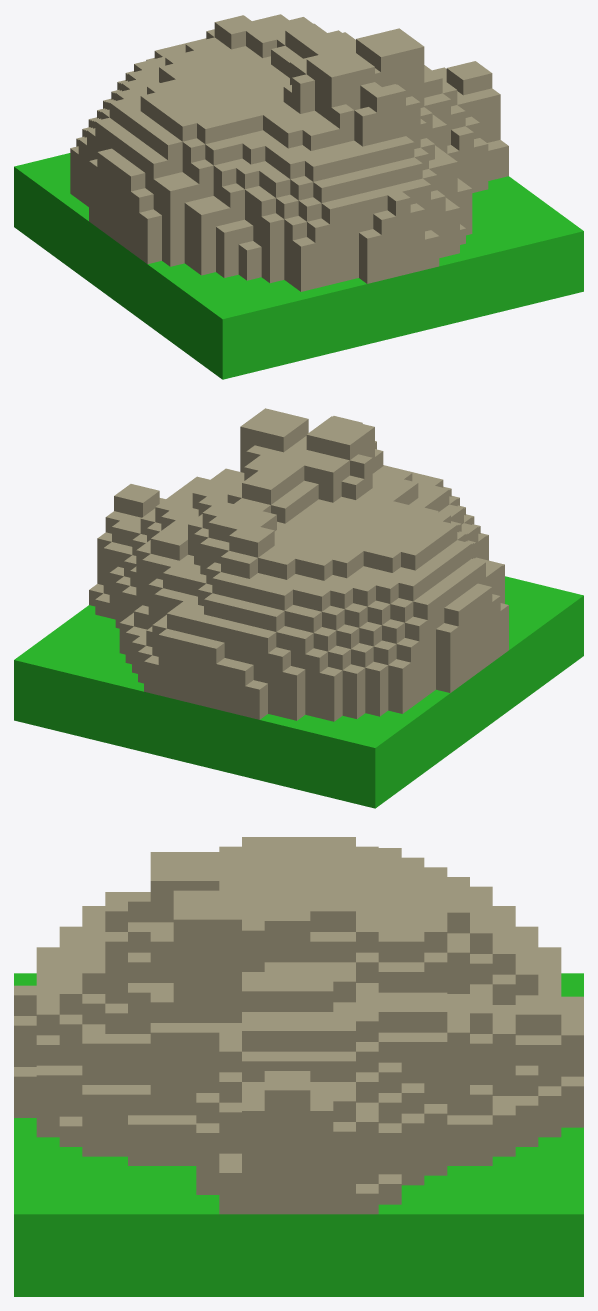
File: rock.obj
3 views of the same model, one above another, from view 1: azimuth 30°, elevation 25°; view 2: azimuth 150°, elevation 25°; view 3: azimuth 270°, elevation 25° (orthographic). The views are drawn at different scales.
Size of the model in its own units: 2.5 by 1.5 by 2.5.
Materials: 1 (1 with a texture image).
